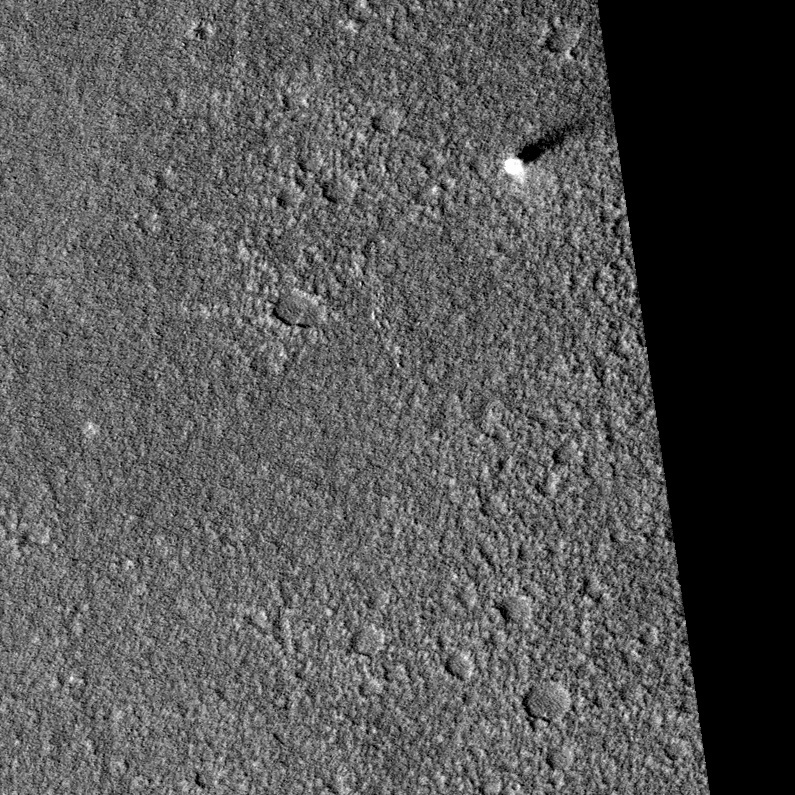dust_devil: (497, 112, 599, 184)
